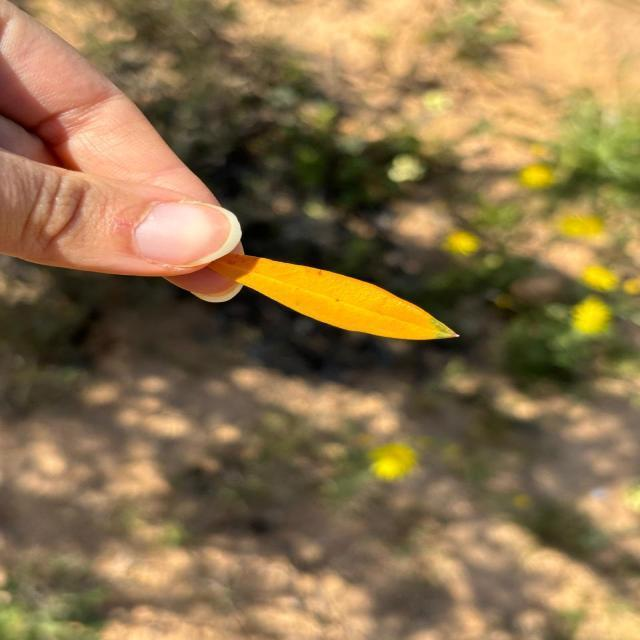OlivePeacockSpot: (208, 254, 461, 342)
